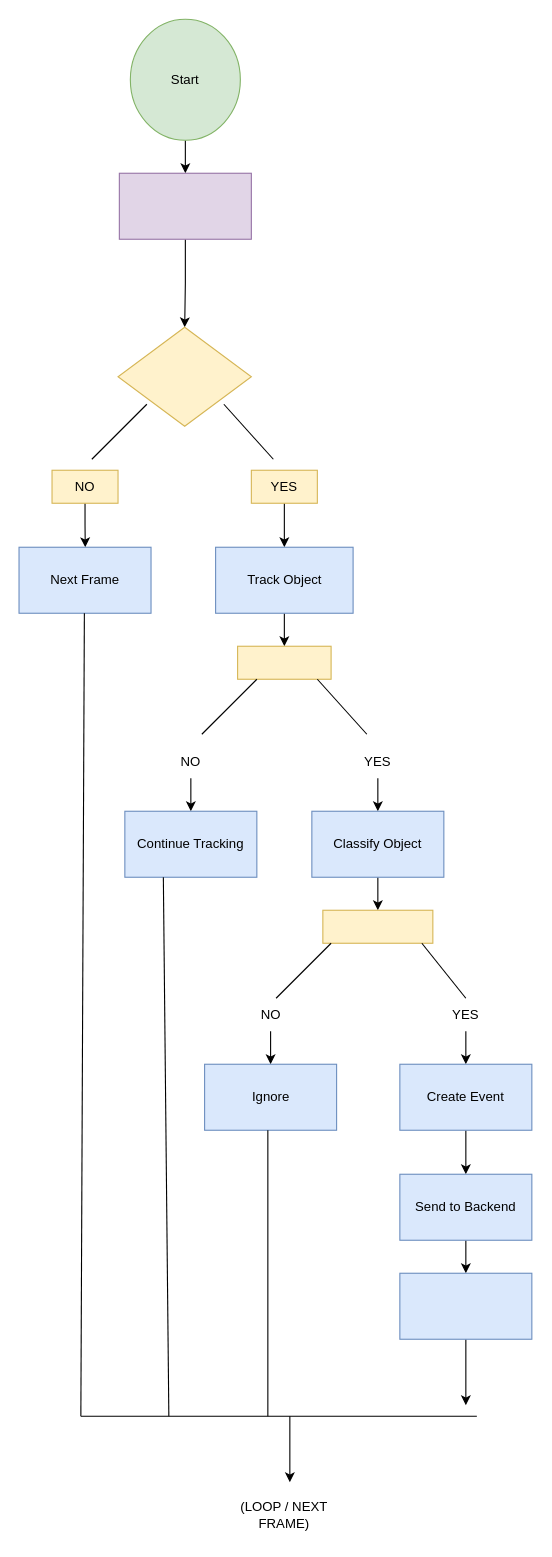
The diagram is 552 pixels wide and 1557 high, and some of its shapes have lost their labels. Here are the shapes that lost their labels. From the top down, the centre of each, then its label:
pixel 184 205: Capture Video Frame
pixel 184 376: Motion Detected?
pixel 284 662: Stationary again?
pixel 377 926: Waste Detected?
pixel 465 1305: Update Dashboard
